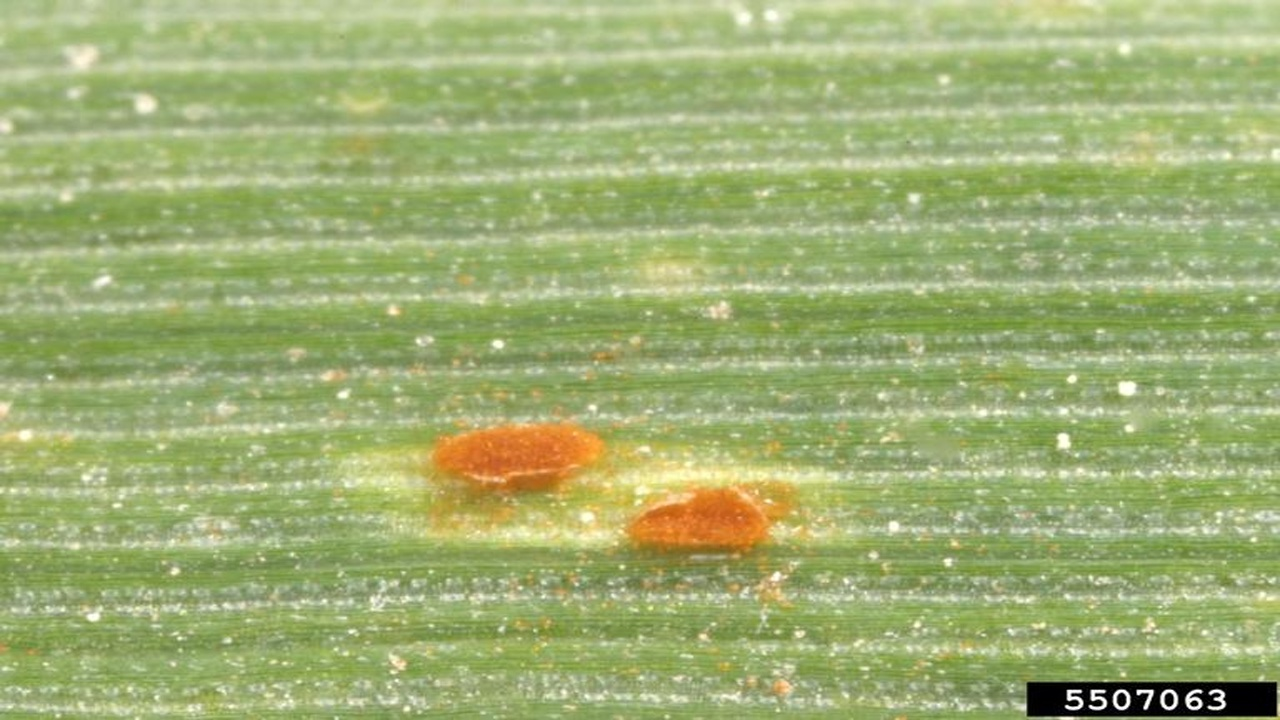leaf_rust: (177, 258, 981, 700)
